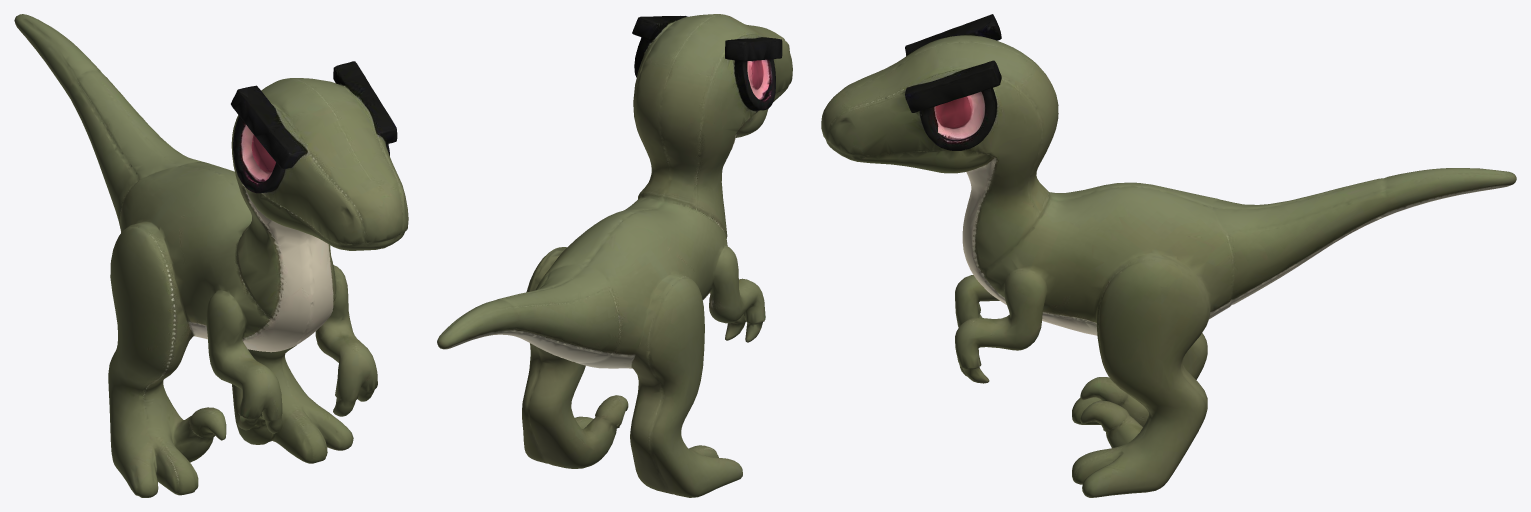
Rendered from dino_raptor.glb.
3 views of the same model, side by side, from view 1: azimuth 30°, elevation 25°; view 2: azimuth 150°, elevation 25°; view 3: azimuth 270°, elevation 25° (orthographic). The views are drawn at different scales.
Visible parts, largest first — view 1: Mesh_0; view 2: Mesh_0; view 3: Mesh_0.
Part boxes in pixels (x1,y1,x2,y2): Mesh_0: (14, 14, 408, 497); Mesh_0: (437, 14, 792, 497); Mesh_0: (821, 14, 1516, 497).
Bounding box in the file's own units: 0.6494 × 1.24 × 1.9.
Materials: 1 (1 with a texture image).
